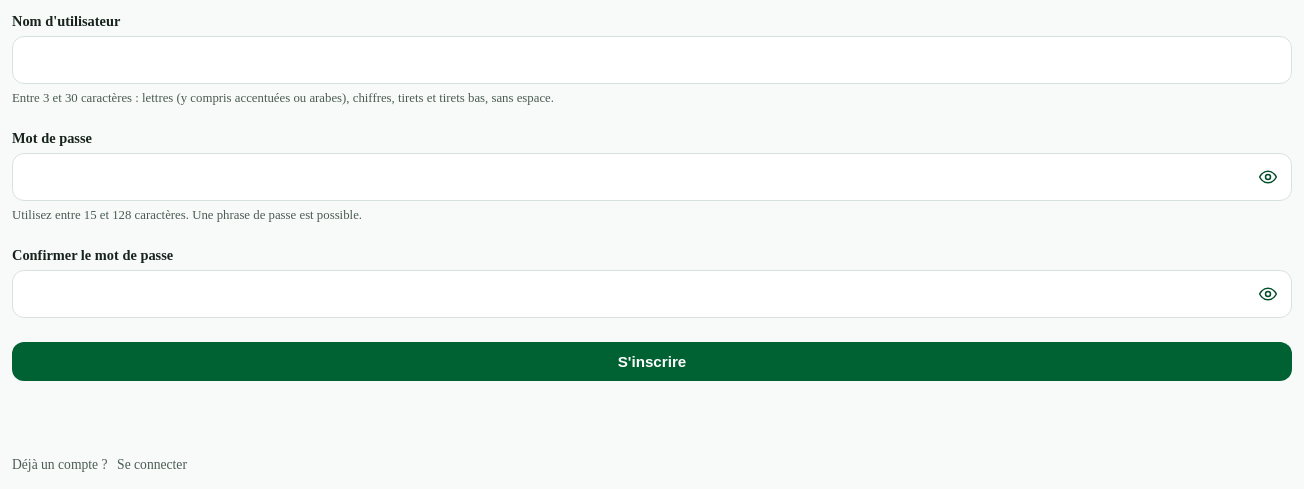
Scenario: RegistrationForm › shows a generic message and never claims success when the response is lost (timeout/network failure)
The image size is (1304, 489).
Type "jean-dupont_92" into the field labelled "Nom d'utilisateur". click: (652, 60)
box: [12, 36, 1292, 84]
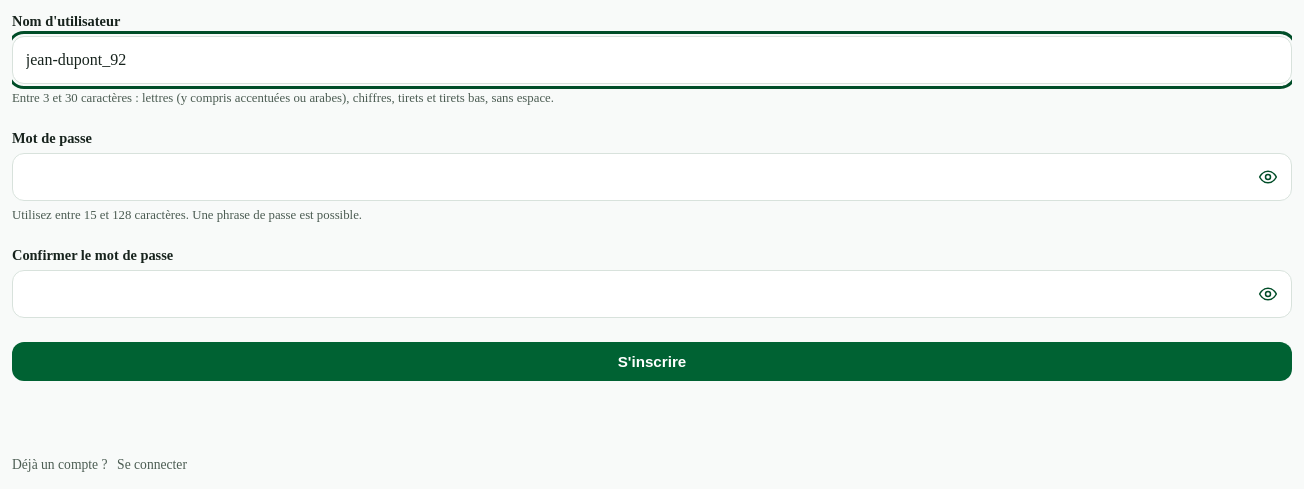
Type "une phrase de passe suffisamment longue" into the password field labelled "Mot de passe". click: (652, 177)
box: [12, 153, 1292, 201]
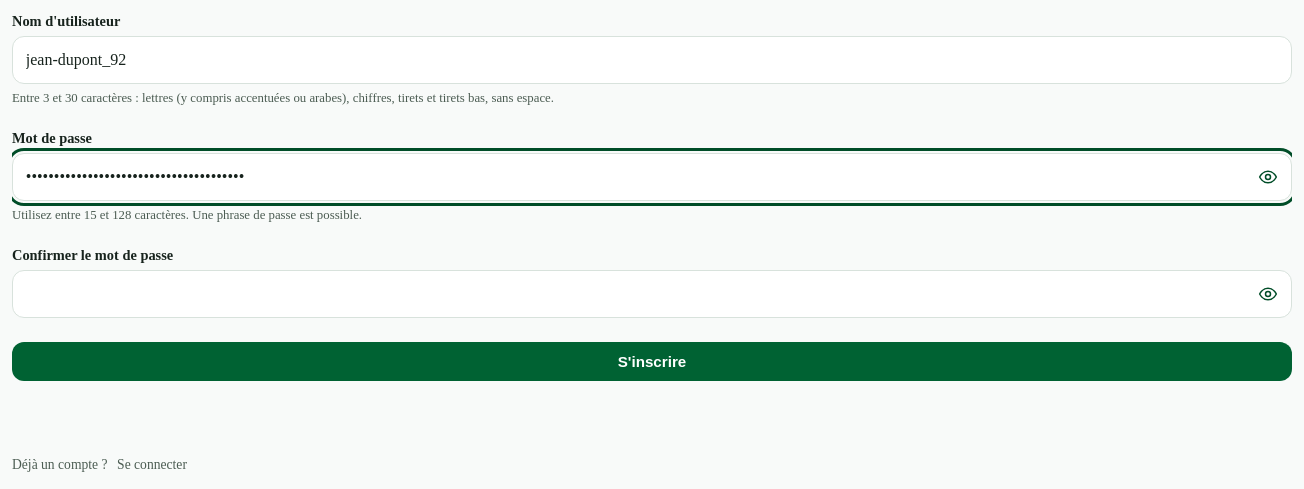
Type "une phrase de passe suffisamment longue" into the password field labelled "Confirmer le mot de passe". click: (652, 294)
box: [12, 270, 1292, 318]
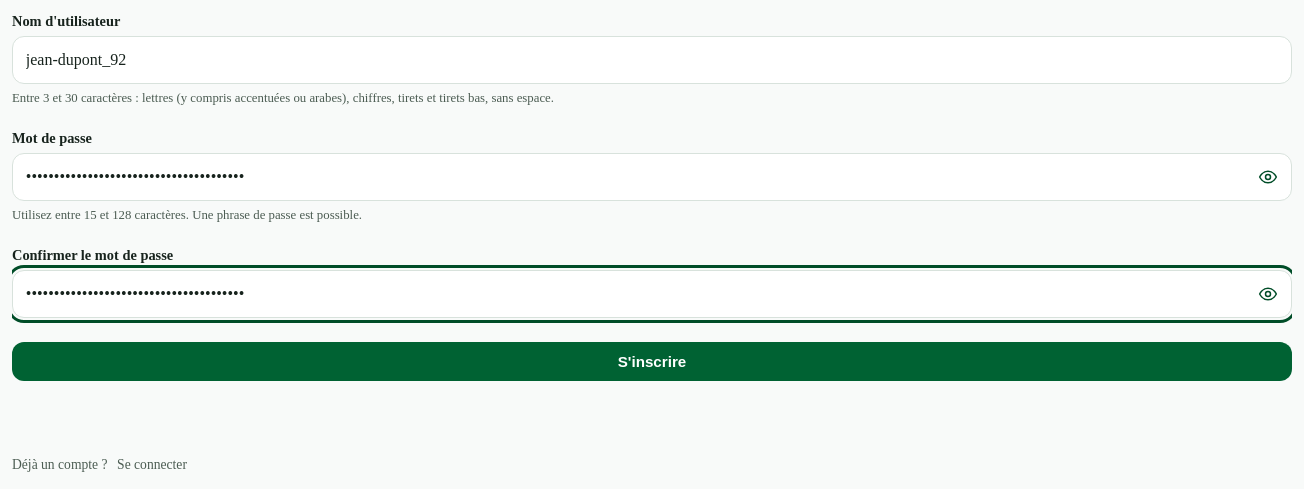
Click the button "S'inscrire". click: (652, 362)
box: [12, 342, 1292, 381]
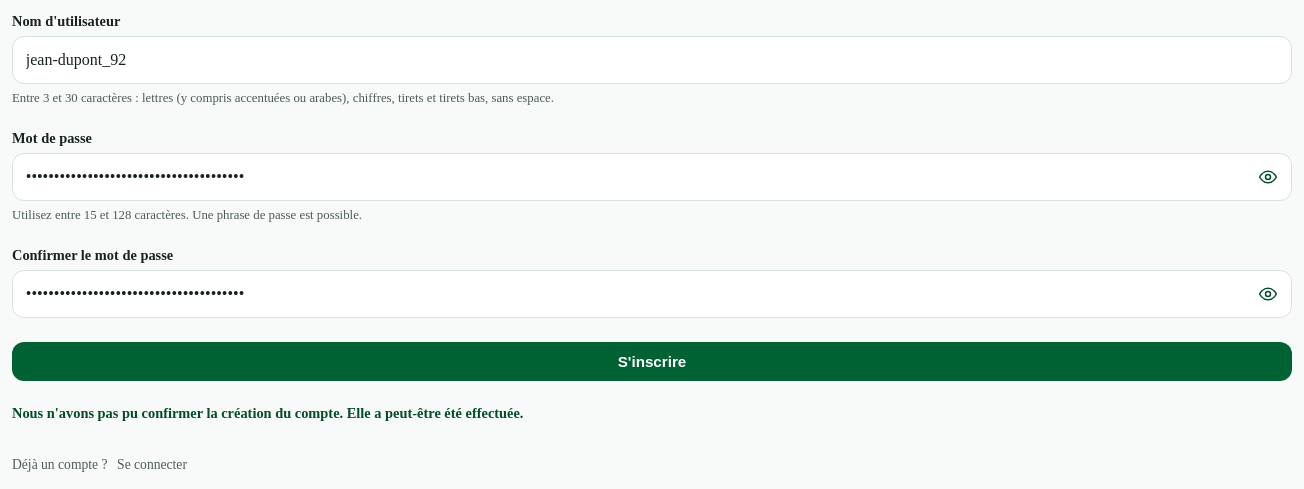
Now the text "Nous n'avons pas pu confirmer la création du compte. Elle a peut-être été effectuée." is shown, box [12, 405, 524, 421]
